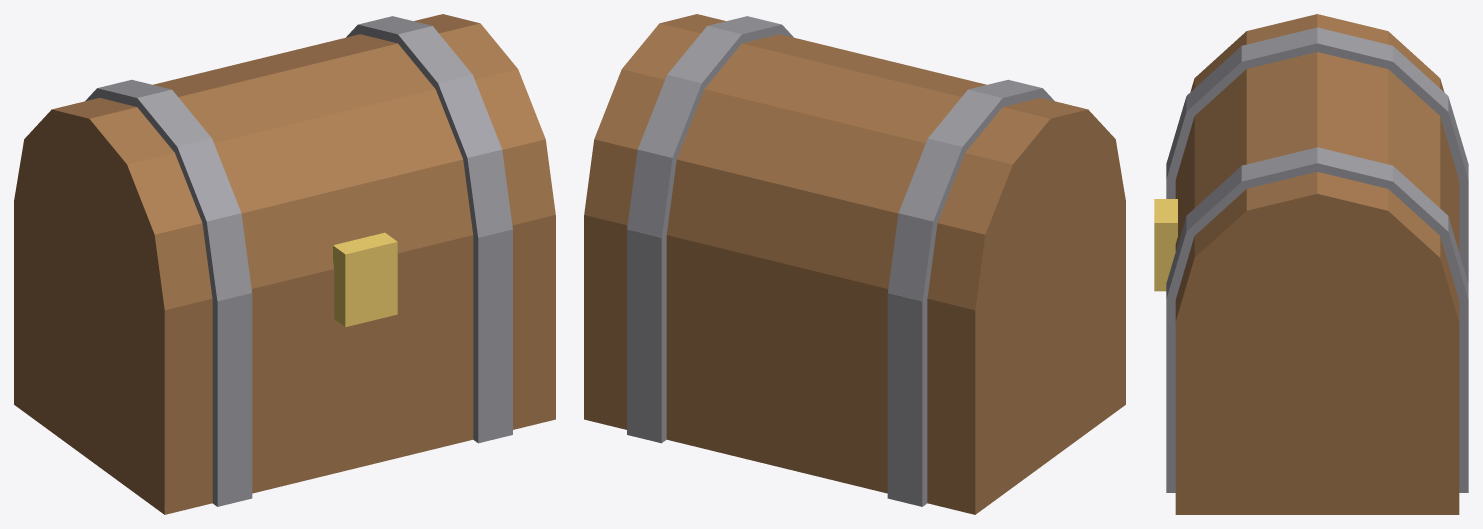
File: chest.glb
The picture shows the model from 3 angles, left to right: view 1: azimuth 30°, elevation 25°; view 2: azimuth 150°, elevation 25°; view 3: azimuth 270°, elevation 25°; orthographic projection. The views are drawn at different scales.
Parts seen in each view (by area): view 1: Chest; view 2: Chest; view 3: Chest.
Part boxes in pixels (x1=…): Chest: x1=14, y1=14, x2=555, y2=514; Chest: x1=584, y1=14, x2=1125, y2=514; Chest: x1=1154, y1=14, x2=1468, y2=514.
Size of the model in its own units: 0.9 by 0.77 by 0.665.
